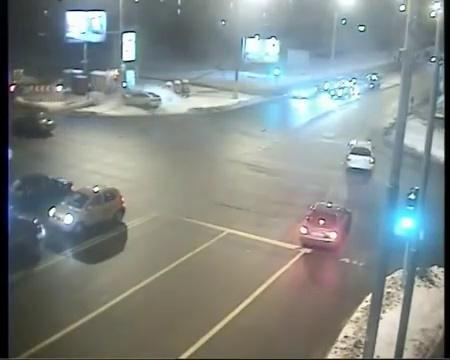car-accident: (104, 78, 172, 112)
